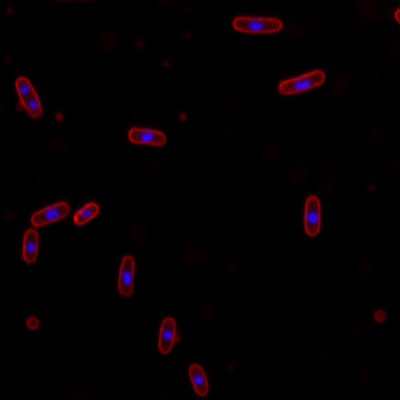CAM: (277, 69, 327, 97), (13, 75, 43, 120), (29, 200, 73, 227), (232, 14, 284, 35), (115, 255, 136, 298), (127, 125, 168, 147), (303, 193, 322, 238), (186, 362, 210, 397), (157, 314, 177, 355), (71, 202, 100, 226), (23, 227, 40, 265)
Vesicle: (371, 305, 388, 325), (23, 315, 40, 331), (177, 111, 188, 124), (55, 112, 65, 122), (160, 58, 170, 68)
